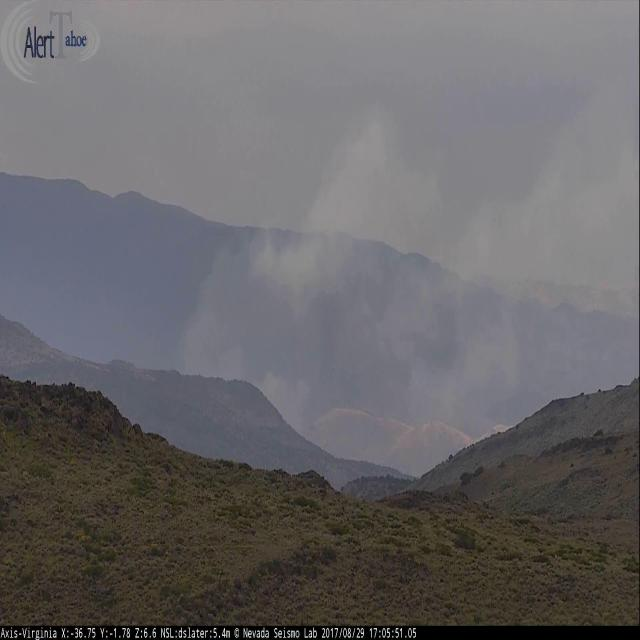smoke: (173, 90, 640, 383)
